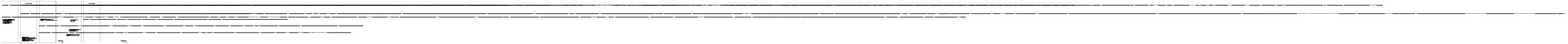corridor: (603, 23, 807, 25), (1010, 7, 1210, 9), (1051, 12, 1169, 14)
room: (322, 2, 523, 6), (22, 20, 164, 25), (1072, 22, 1148, 24)
wall: (603, 23, 807, 25), (22, 23, 69, 25)
